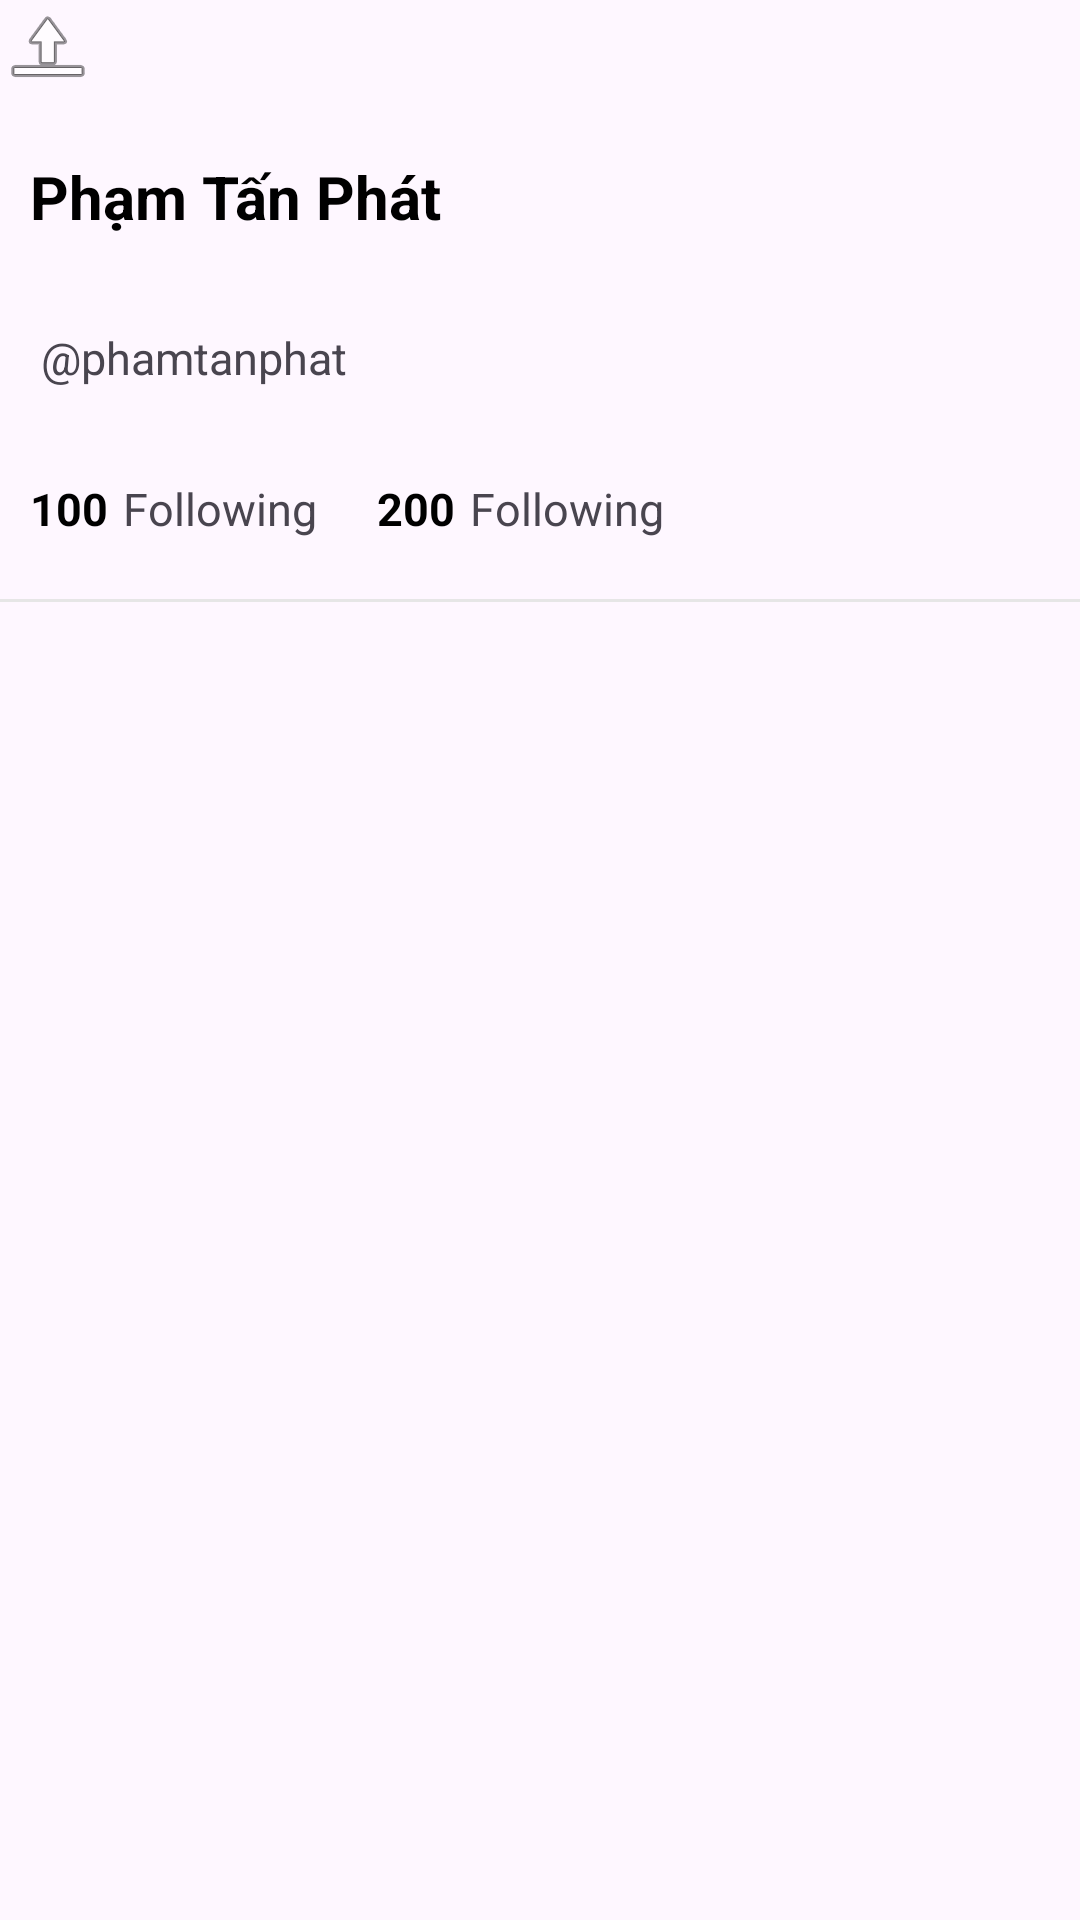

Where icons sit on this 1080px×1920px app screen, as Rect(x1, y1, x2, y2):
upload you tube: Rect(11, 16, 85, 77)
